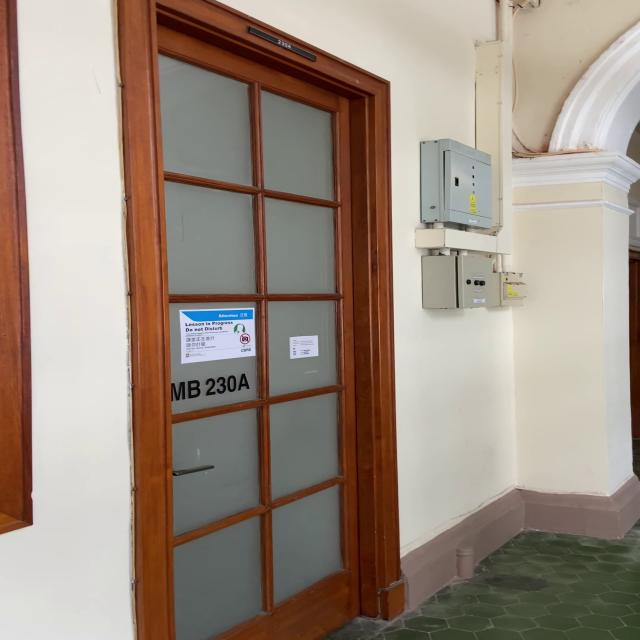room230A: (244, 23, 322, 63)
